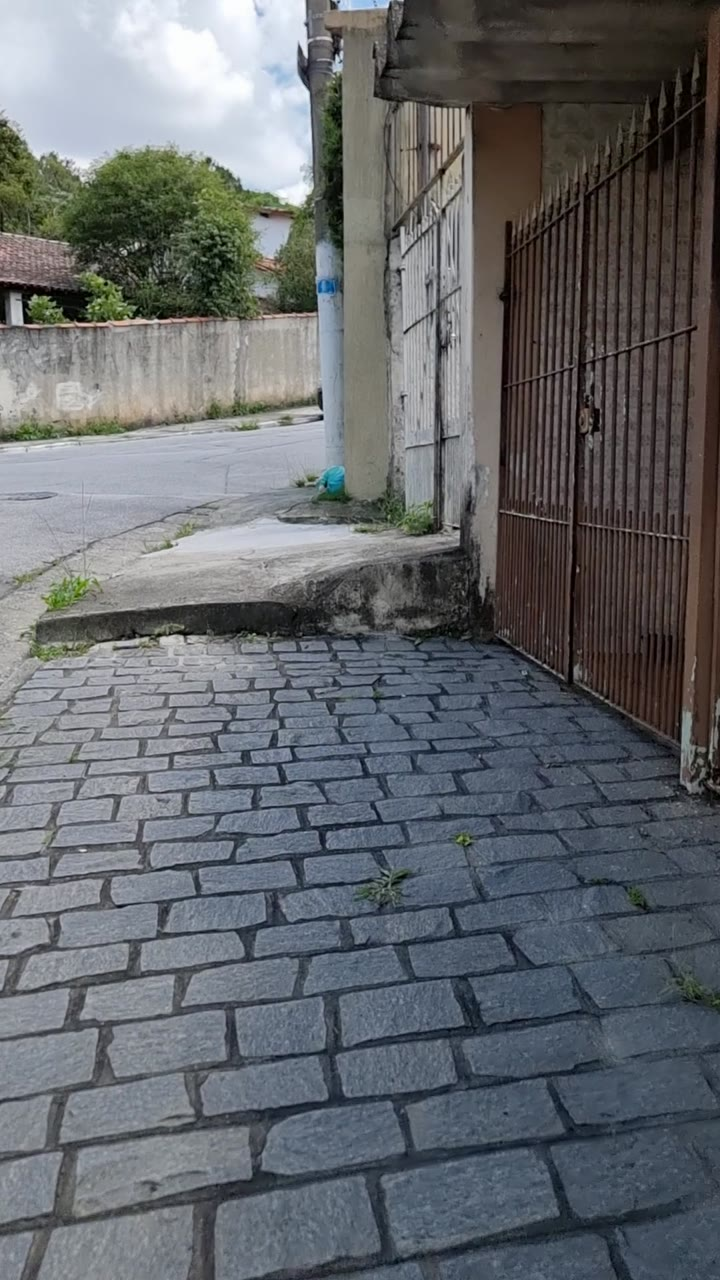desnivel: (216, 525, 475, 640)
obstaculo: (310, 0, 360, 474), (316, 466, 345, 498)
